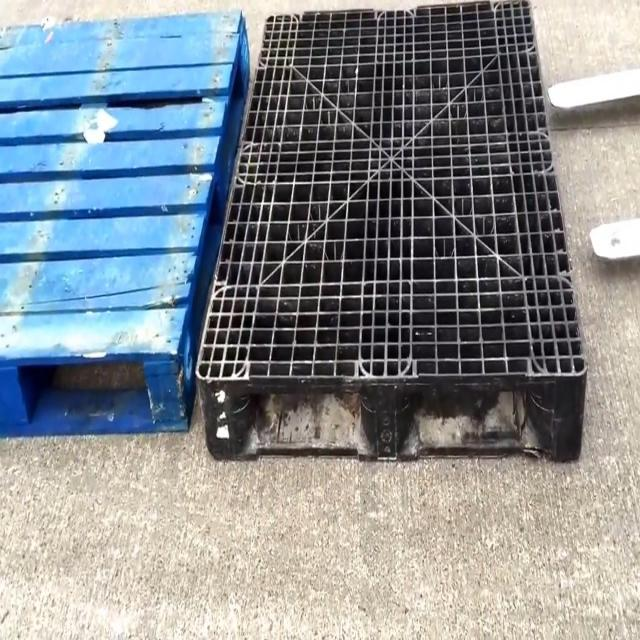Palette: (189, 0, 590, 463), (0, 2, 262, 444)
